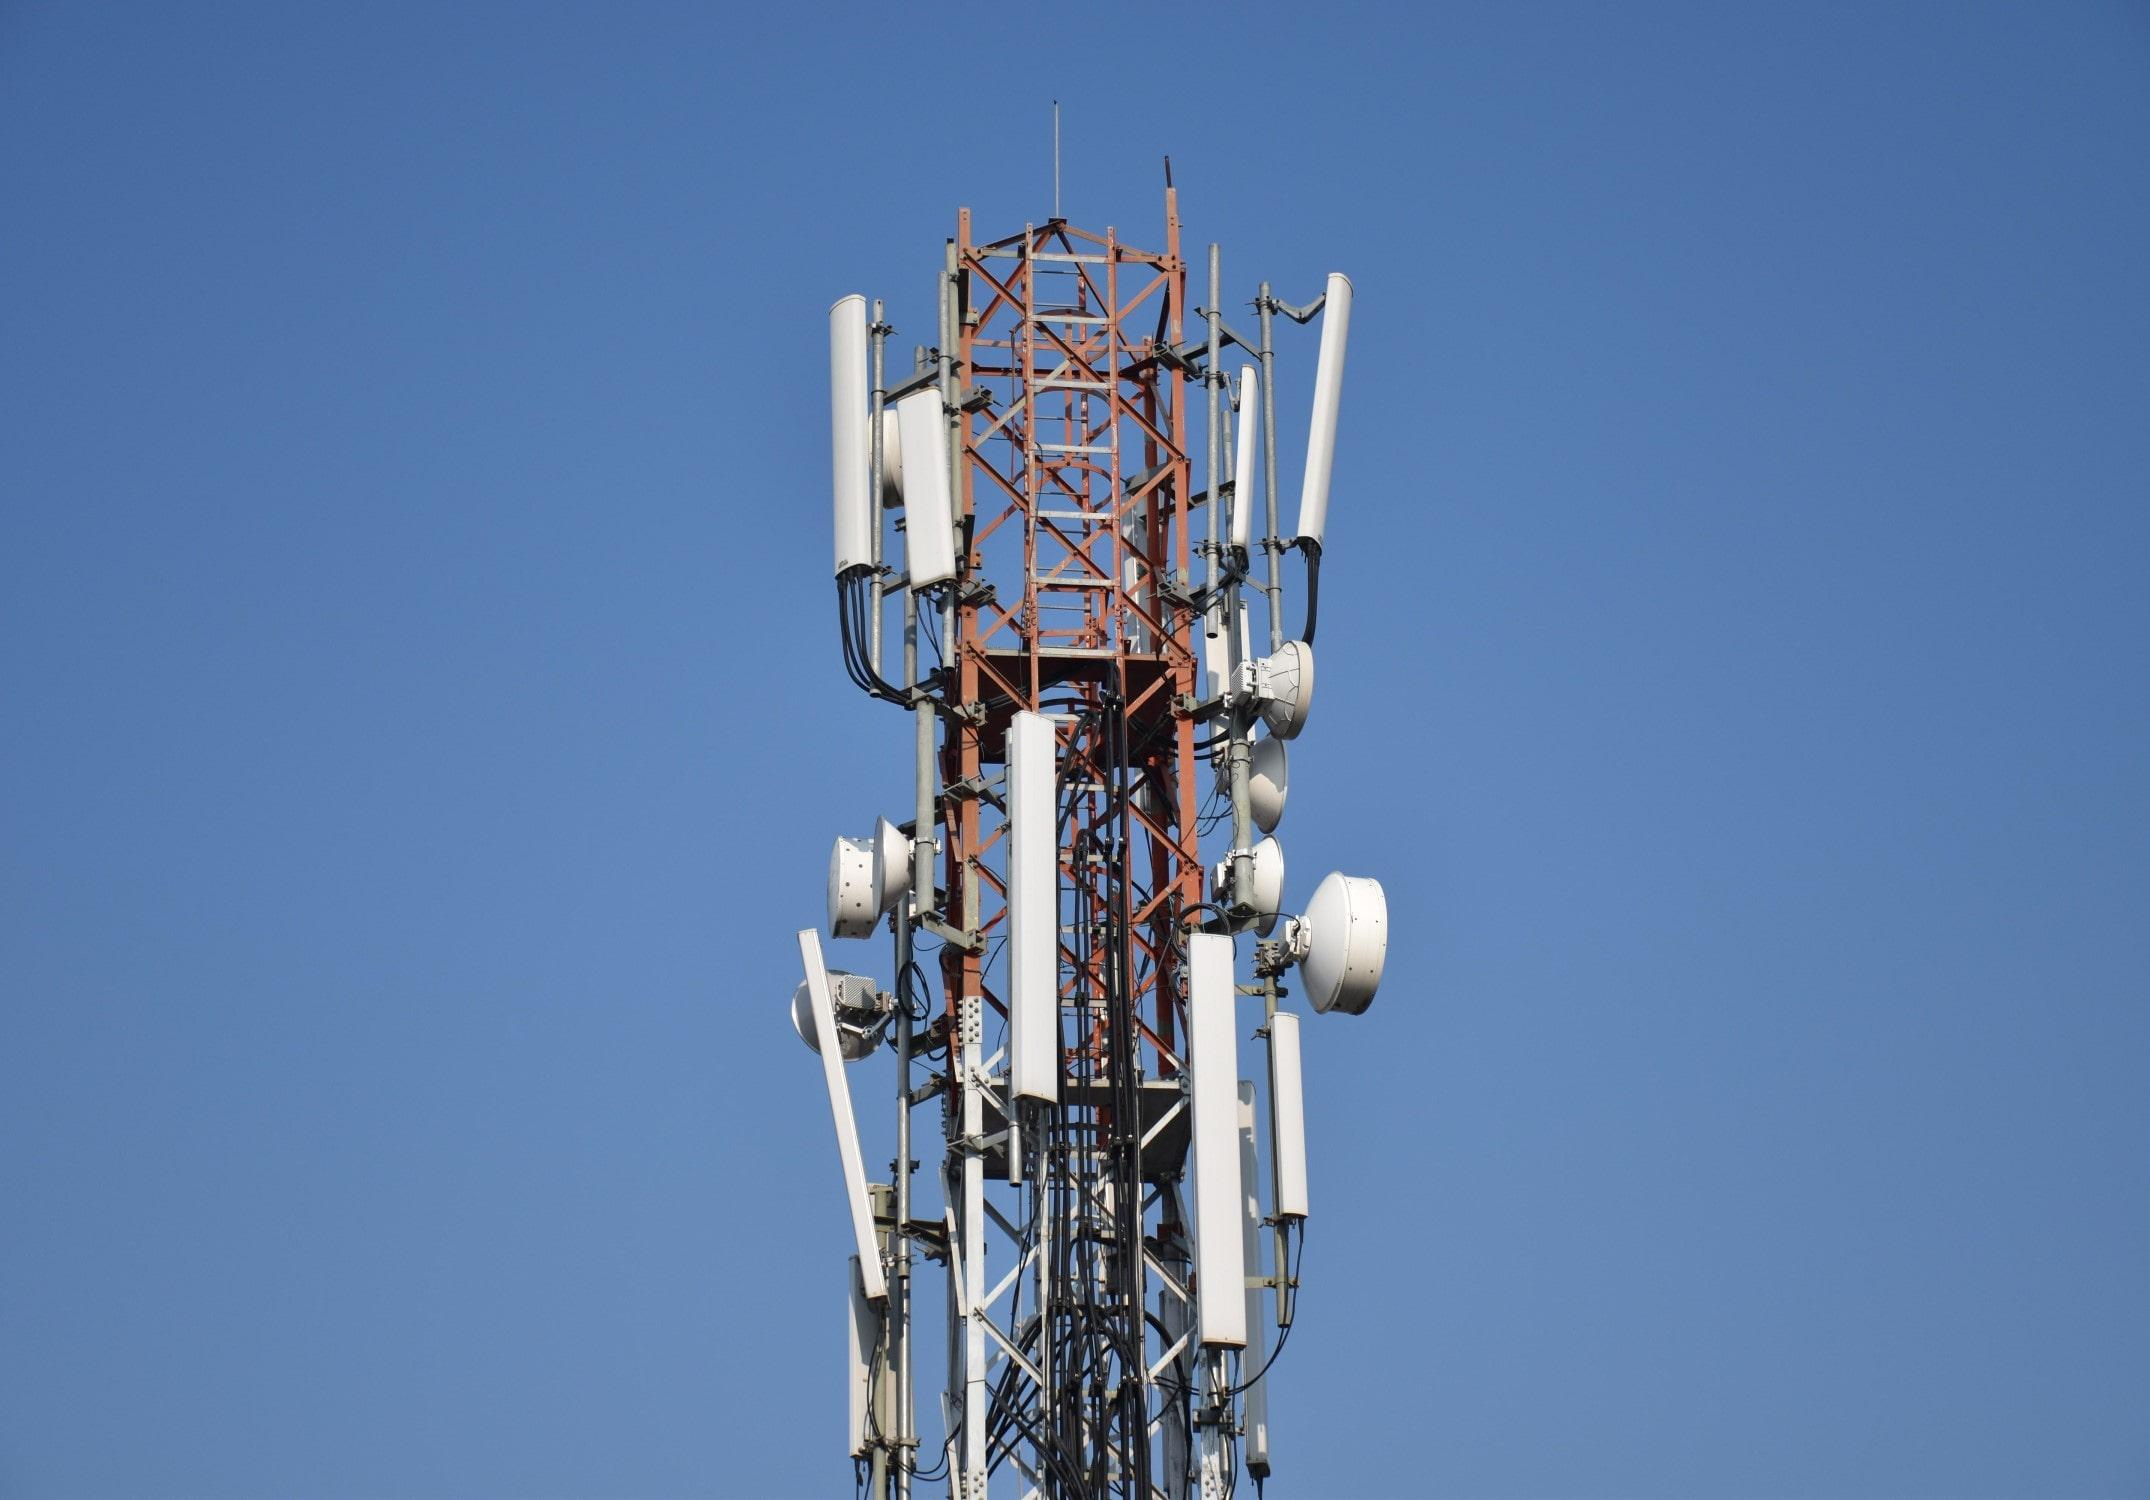Microwave Antenna: (1292, 871, 1398, 1034), (1227, 627, 1333, 743), (1209, 817, 1302, 935), (810, 832, 892, 944), (869, 812, 941, 904), (1237, 752, 1312, 838)
antenna: (794, 922, 889, 1310), (1181, 925, 1260, 1363), (1001, 703, 1077, 1111), (825, 286, 885, 572), (1305, 276, 1361, 552), (894, 399, 966, 592), (1273, 1013, 1317, 1222), (1227, 366, 1263, 560)
